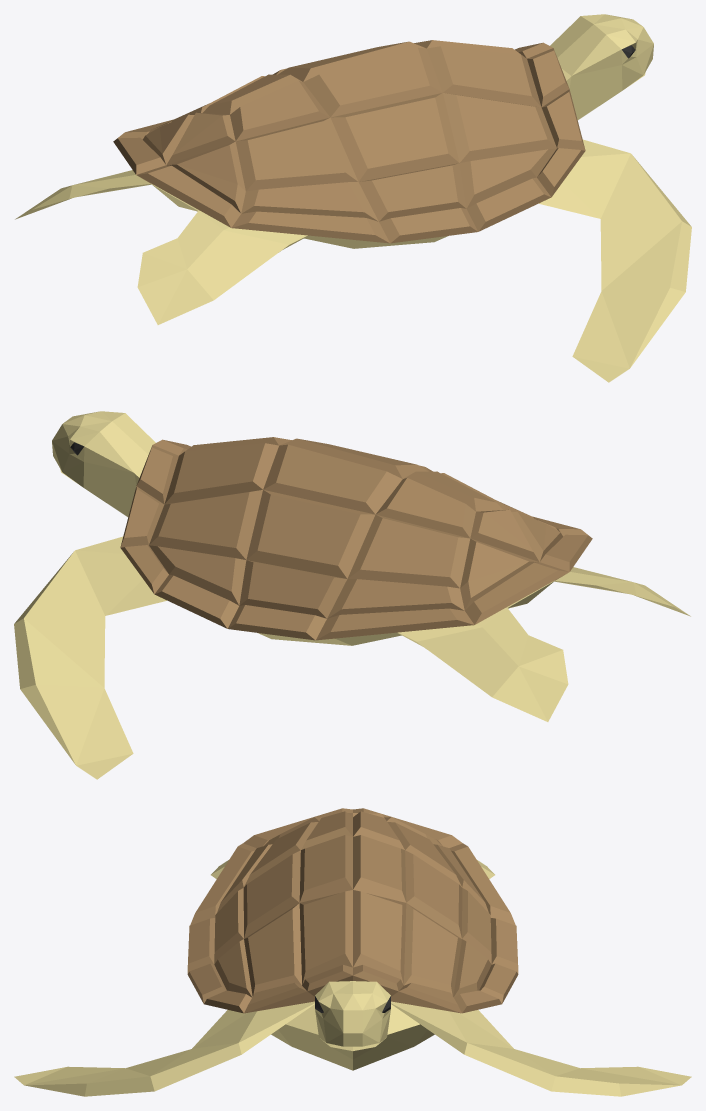
File: Sea Turtle.fbx
3 renders of one model, top to bottom at view 1: azimuth 30°, elevation 25°; view 2: azimuth 150°, elevation 25°; view 3: azimuth 270°, elevation 25°, orthographic. The views are drawn at different scales.
Visible parts, largest first — view 1: Sea Turtle; view 2: Sea Turtle; view 3: Sea Turtle.
Boxes of the visible parts, x1,y1,x2,y2 form: Sea Turtle: (15, 14, 691, 382); Sea Turtle: (14, 411, 690, 779); Sea Turtle: (14, 808, 691, 1096).
Size of the model in its own units: 4.68 by 1.65 by 5.24.
